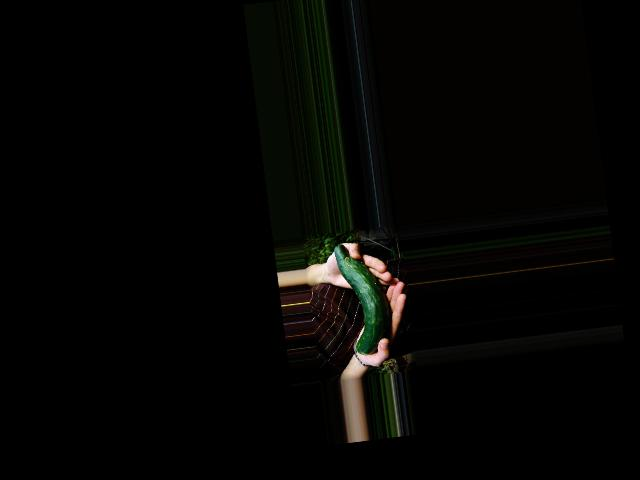cucumber: (333, 239, 394, 357)
